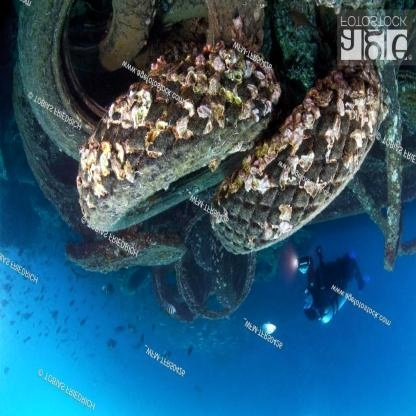tire: (75, 65, 263, 208), (236, 79, 378, 232), (4, 1, 82, 153)
